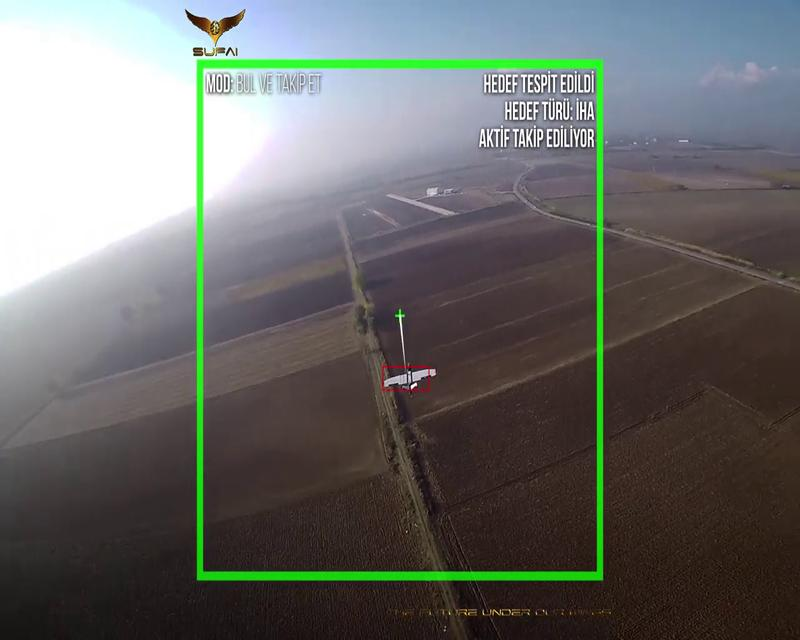UAV: (383, 367, 436, 392)
